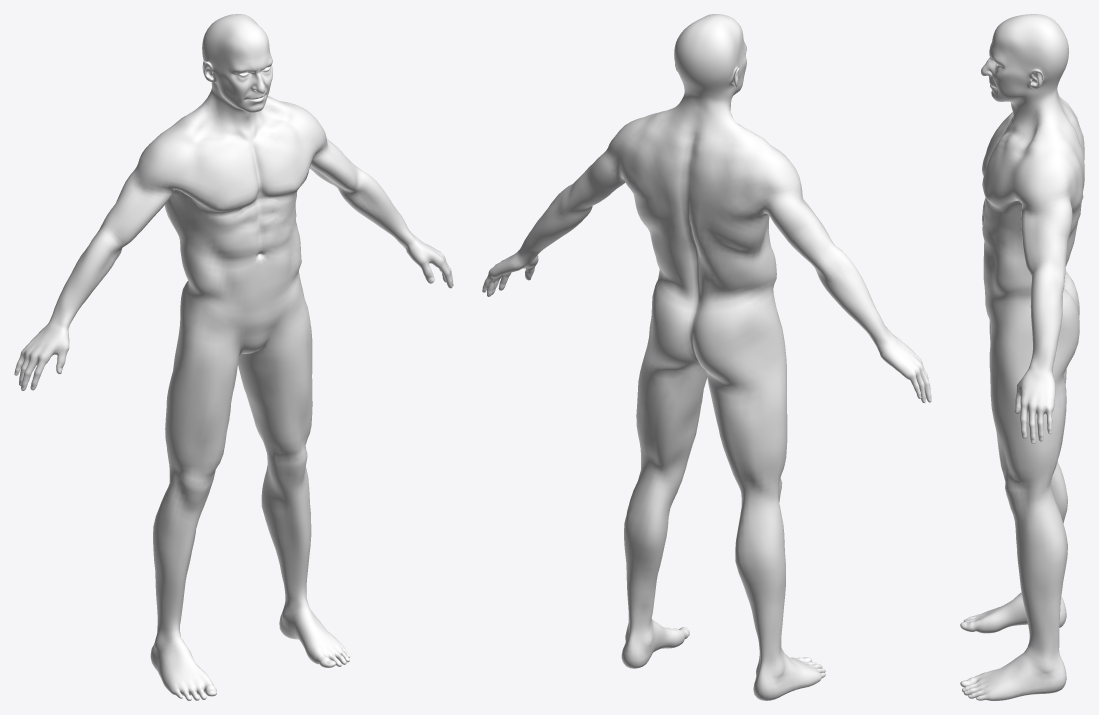
Rendered from Cam_Model.obj.
3 views of the same model, side by side, from view 1: azimuth 30°, elevation 25°; view 2: azimuth 150°, elevation 25°; view 3: azimuth 270°, elevation 25° (orthographic). The views are drawn at different scales.
Visible parts, largest first — view 1: Zwrap_Retopo_Low_new; view 2: Zwrap_Retopo_Low_new; view 3: Zwrap_Retopo_Low_new.
Part boxes in pixels (x1,y1,x2,y2): Zwrap_Retopo_Low_new: (14,14,453,700); Zwrap_Retopo_Low_new: (482,14,931,700); Zwrap_Retopo_Low_new: (960,14,1084,700).
Size of the model in its own units: 1.57 by 2.23 by 0.3919.
